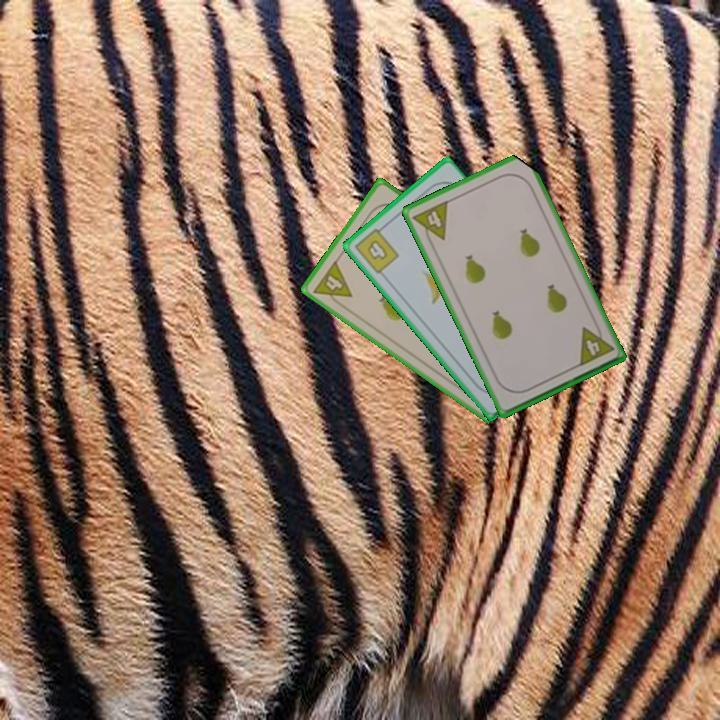4b: (351, 222, 402, 277)
4p: (309, 257, 355, 311), (409, 197, 451, 248), (575, 319, 617, 369)
